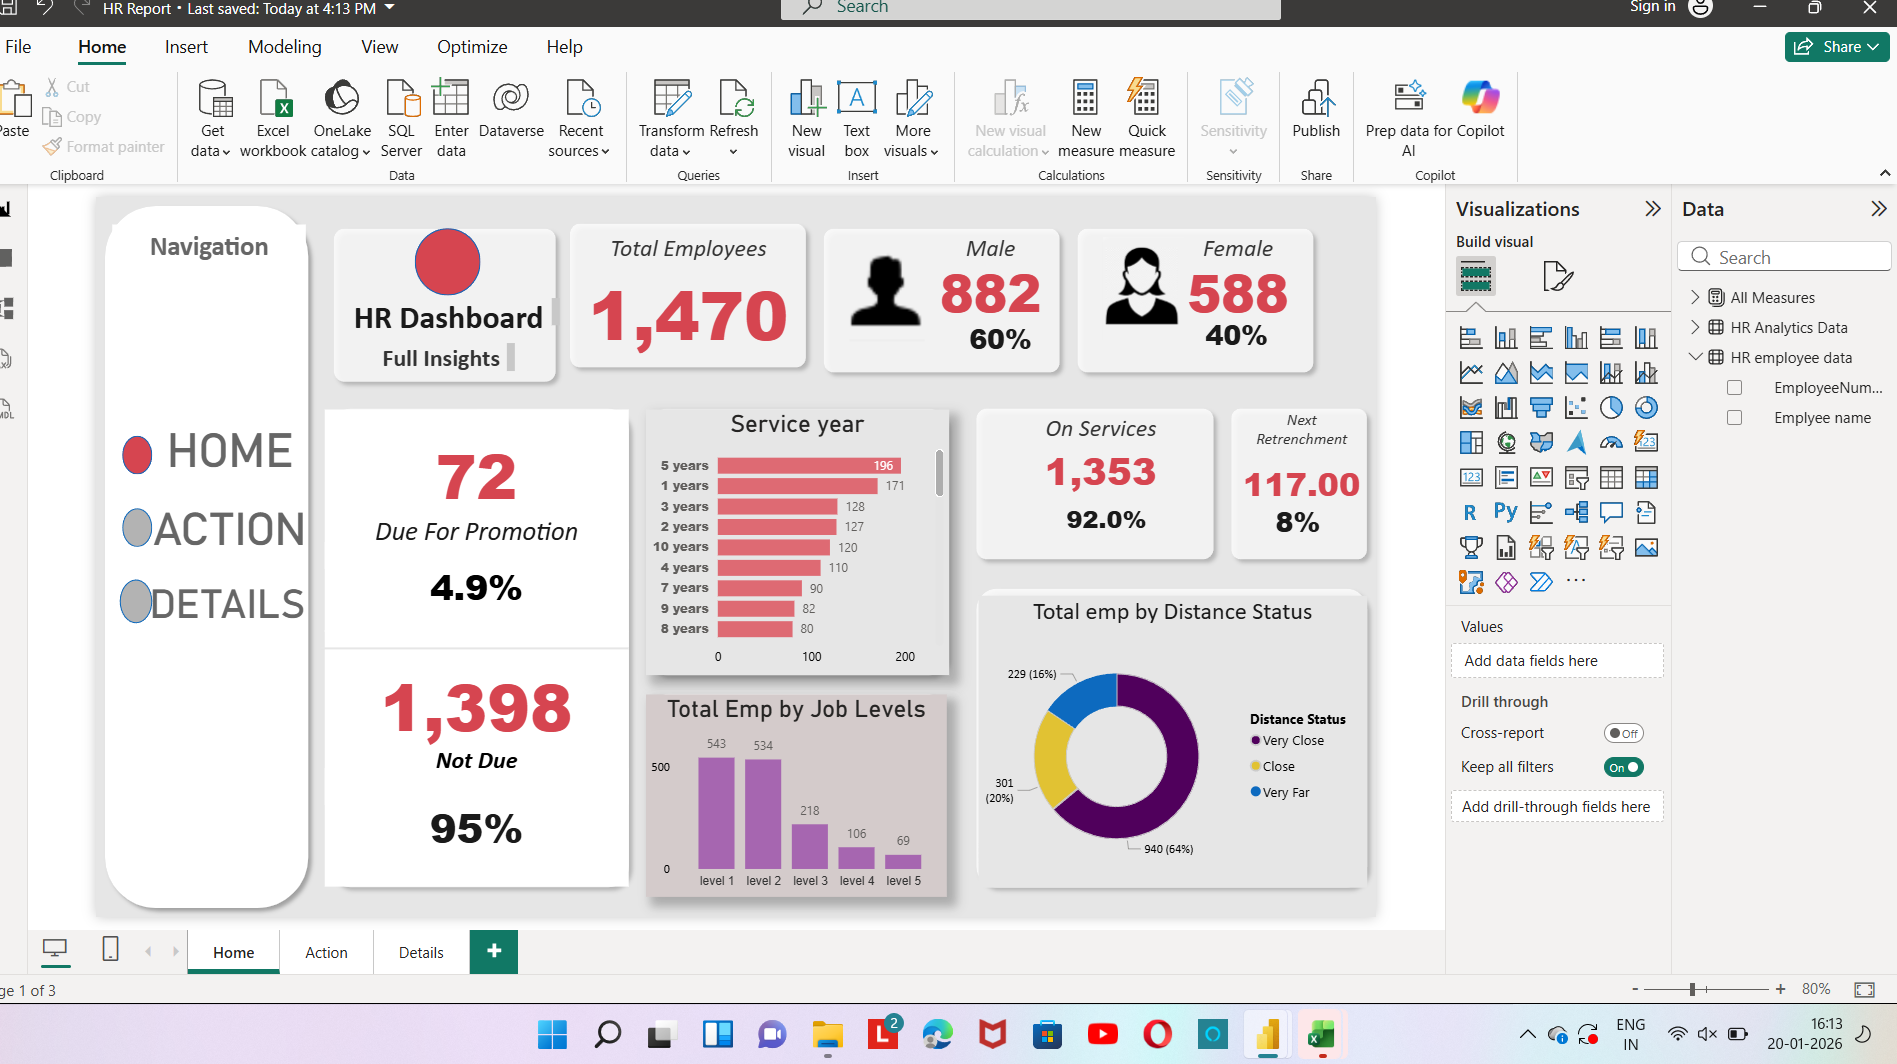

Layout of this report page (visuals, bound fields, positions):
{"tool":"powerbi","page":{"name":"Home","canvas":[1280,720],"ordinal":0},"visuals":[{"type":"shape","box":[16.5,9.6,166.5,699.2],"z":0},{"type":"shape","box":[195.4,12.4,264.3,143.1],"z":1000},{"type":"shape","box":[459.7,12.4,264.3,143.1],"z":2000},{"type":"shape","box":[724,12.4,264.3,143.1],"z":3000},{"type":"shape","box":[988.2,12.4,264.3,143.1],"z":4000},{"type":"shape","box":[195.4,166.5,326.2,542.3],"z":5000},{"type":"shape","box":[521.6,166.2,309.7,315.2],"z":6000},{"type":"shape","box":[521.6,494.1,309.7,214.7],"z":7000},{"type":"shape","box":[834.8,384.2,421.6,314.1],"z":8000},{"type":"shape","box":[833.6,166.7,228.3,215],"z":9000},{"type":"shape","box":[1063.1,166.7,193.3,215],"z":10000},{"type":"textbox","box":[209.7,71.2,238.7,51.4],"z":11000},{"type":"textbox","box":[36.9,33,130.5,51.4],"z":12000},{"type":"textbox","box":[209.7,97.6,251.9,55.4],"z":13000},{"type":"shape","box":[305.9,33,40.9,39.6],"z":14000},{"type":"card","title":"Total Employees","fields":{"Values":["All Measures.Total Emp"]},"box":[468,27.5,246.4,112.9],"z":15000},{"type":"card","title":"Male","fields":{"Values":["All Measures.Male"]},"box":[814.8,26.2,170.7,75.7],"z":16000},{"type":"card","fields":{"Values":["All Measures.Male %"]},"box":[834.1,90.8,132.1,55.1],"z":17000},{"type":"card","title":"Female","fields":{"Values":["All Measures.Female"]},"box":[1068.7,26.2,183.1,75.7],"z":18000},{"type":"card","fields":{"Values":["All Measures.Female %"]},"box":[1083.9,90.8,152.8,53.7],"z":19000},{"type":"image","box":[736.3,26.2,95,90.8],"z":20000},{"type":"actionButton","title":"Home","box":[27.8,176.4,140.1,30.2],"z":21000},{"type":"image","box":[1004.7,33,79.8,84],"z":22000},{"type":"actionButton","title":"Action","box":[27.7,233.4,139.8,56.7],"z":23000},{"type":"card","title":"Active workers","fields":{"Values":["All Measures.Active workers"]},"box":[1058.3,186,203,142.6],"z":24000},{"type":"actionButton","title":"Detail","box":[27.7,300.7,139.8,58],"z":25000},{"type":"card","fields":{"Values":["All Measures.% Active workers"]},"box":[1082.4,296,153.4,53.2],"z":26000},{"type":"card","title":"Next retreachment","fields":{"Values":["All Measures.Due for retrenchment"]},"box":[843.2,186,215,142.6],"z":27000},{"type":"card","fields":{"Values":["All Measures.%Due for retirment"]},"box":[865,296,171.5,53.2],"z":28000},{"type":"columnChart","title":"Job Levels view","fields":{"Category":["HR Analytics Data.Job Level"],"Y":["All Measures.Total Emp"]},"box":[531.3,512,300,185.8],"z":29000},{"type":"barChart","title":"Services years","fields":{"Category":["HR Analytics Data.Total working Years"],"Y":["All Measures.Total Emp"]},"box":[536.4,192.1,280.3,280.3],"z":30000},{"type":"donutChart","title":"Distance from office","fields":{"Category":["HR Analytics Data.Distance from office"],"Y":["All Measures.Total Emp"]},"box":[840.8,399.9,408.3,282.7],"z":31000},{"type":"card","title":"Not due for promotion","fields":{"Values":["All Measures.Not Due"]},"box":[207.8,192.1,303.2,130.5],"z":32000},{"type":"card","title":"Due for promotion","fields":{"Values":["All Measures.Due for promotion"]},"box":[209,473.8,303.2,119.6],"z":33000},{"type":"shape","box":[206.6,427.7,303.2,14.5],"z":34000},{"type":"card","fields":{"Values":["All Measures.% Not due for promotion"]},"box":[283.5,309.7,152.8,53.7],"z":35000},{"type":"card","fields":{"Values":["All Measures.% Due for promotion"]},"box":[285.1,582.5,152.2,53.2],"z":36000},{"type":"shape","box":[36.9,180.7,21.1,22.4],"z":37000},{"type":"shape","box":[36.9,236,21.1,22.4],"z":38000},{"type":"shape","box":[36.9,300.7,21.1,22.4],"z":39000},{"type":"shape","box":[51.4,586.8,92.3,89.7],"z":40000},{"type":"shape","box":[30.2,61.6,140.1,15.7],"z":41000}]}

Visuals, with their boxes on the page's 1280x720 design canvas (x1, y1, x2, y2). These are canvas units, not pixel positions in the 1897x1064 screenshot, which may show the page scaled, cropped or inside an application window:
shape: pyautogui.locateOnScreen(16, 10, 183, 709)
shape: pyautogui.locateOnScreen(195, 12, 460, 156)
shape: pyautogui.locateOnScreen(460, 12, 724, 156)
shape: pyautogui.locateOnScreen(724, 12, 988, 156)
shape: pyautogui.locateOnScreen(988, 12, 1252, 156)
shape: pyautogui.locateOnScreen(195, 166, 522, 709)
shape: pyautogui.locateOnScreen(522, 166, 831, 481)
shape: pyautogui.locateOnScreen(522, 494, 831, 709)
shape: pyautogui.locateOnScreen(835, 384, 1256, 698)
shape: pyautogui.locateOnScreen(834, 167, 1062, 382)
shape: pyautogui.locateOnScreen(1063, 167, 1256, 382)
textbox: pyautogui.locateOnScreen(210, 71, 448, 123)
textbox: pyautogui.locateOnScreen(37, 33, 167, 84)
textbox: pyautogui.locateOnScreen(210, 98, 462, 153)
shape: pyautogui.locateOnScreen(306, 33, 347, 73)
"Total Employees" card: pyautogui.locateOnScreen(468, 28, 714, 140)
"Male" card: pyautogui.locateOnScreen(815, 26, 986, 102)
card - All Measures.Male %: pyautogui.locateOnScreen(834, 91, 966, 146)
"Female" card: pyautogui.locateOnScreen(1069, 26, 1252, 102)
card - All Measures.Female %: pyautogui.locateOnScreen(1084, 91, 1237, 144)
image: pyautogui.locateOnScreen(736, 26, 831, 117)
"Home" actionButton: pyautogui.locateOnScreen(28, 176, 168, 207)
image: pyautogui.locateOnScreen(1005, 33, 1084, 117)
"Action" actionButton: pyautogui.locateOnScreen(28, 233, 168, 290)
"Active workers" card: pyautogui.locateOnScreen(1058, 186, 1261, 329)
"Detail" actionButton: pyautogui.locateOnScreen(28, 301, 168, 359)
card - All Measures.% Active workers: pyautogui.locateOnScreen(1082, 296, 1236, 349)
"Next retreachment" card: pyautogui.locateOnScreen(843, 186, 1058, 329)
card - All Measures.%Due for retirment: pyautogui.locateOnScreen(865, 296, 1036, 349)
"Job Levels view" columnChart: pyautogui.locateOnScreen(531, 512, 831, 698)
"Services years" barChart: pyautogui.locateOnScreen(536, 192, 817, 472)
"Distance from office" donutChart: pyautogui.locateOnScreen(841, 400, 1249, 683)
"Not due for promotion" card: pyautogui.locateOnScreen(208, 192, 511, 323)
"Due for promotion" card: pyautogui.locateOnScreen(209, 474, 512, 593)
shape: pyautogui.locateOnScreen(207, 428, 510, 442)
card - All Measures.% Not due for promotion: pyautogui.locateOnScreen(284, 310, 436, 363)
card - All Measures.% Due for promotion: pyautogui.locateOnScreen(285, 582, 437, 636)
shape: pyautogui.locateOnScreen(37, 181, 58, 203)
shape: pyautogui.locateOnScreen(37, 236, 58, 258)
shape: pyautogui.locateOnScreen(37, 301, 58, 323)
shape: pyautogui.locateOnScreen(51, 587, 144, 676)
shape: pyautogui.locateOnScreen(30, 62, 170, 77)
